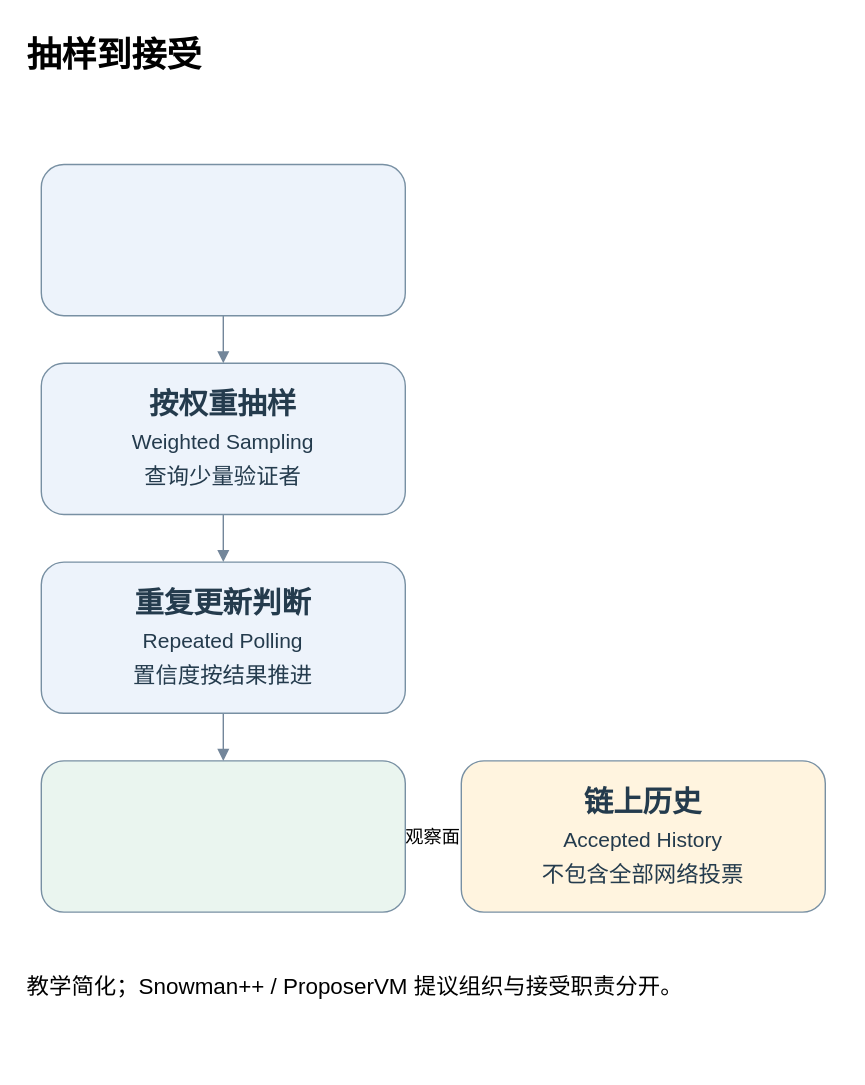
This 865x1085 diagram has some shape labels left out. Each missing label, with the centre of its shape:
"候选与偏好 Candidate / Preference 先满足有效性条件" goes at point (222, 239).
"阈值与接受 Threshold / Acceptance 依参数及安全假设" goes at point (222, 836).
